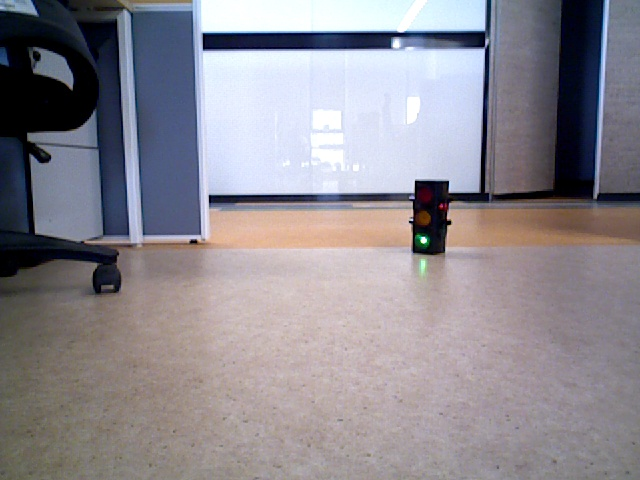green: (414, 181, 442, 249)
